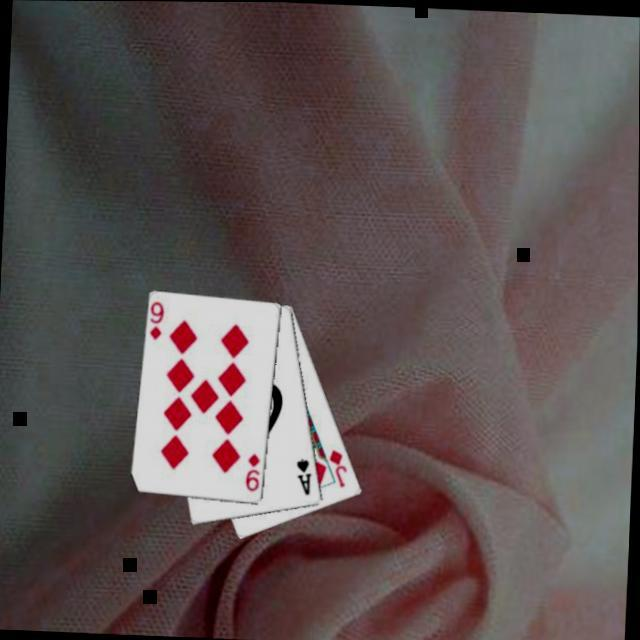9D: (147, 299, 168, 344), (243, 450, 263, 494)
AS: (295, 456, 316, 498)
JD: (327, 446, 351, 490)
